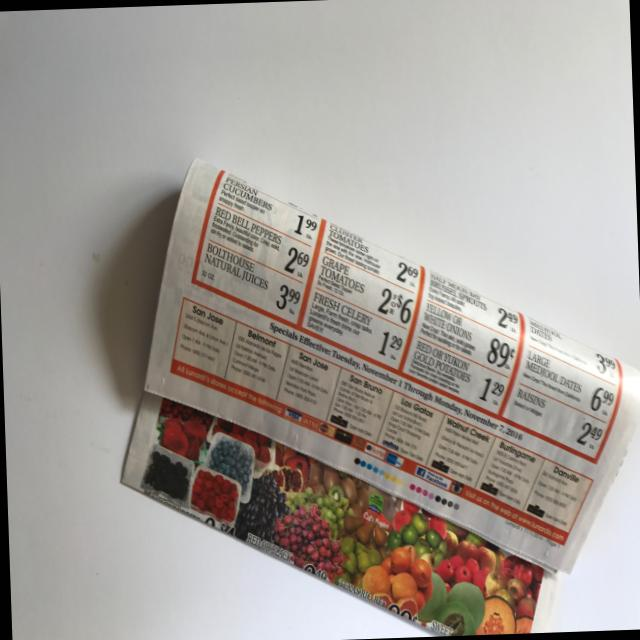Paper: (85, 144, 640, 640)
